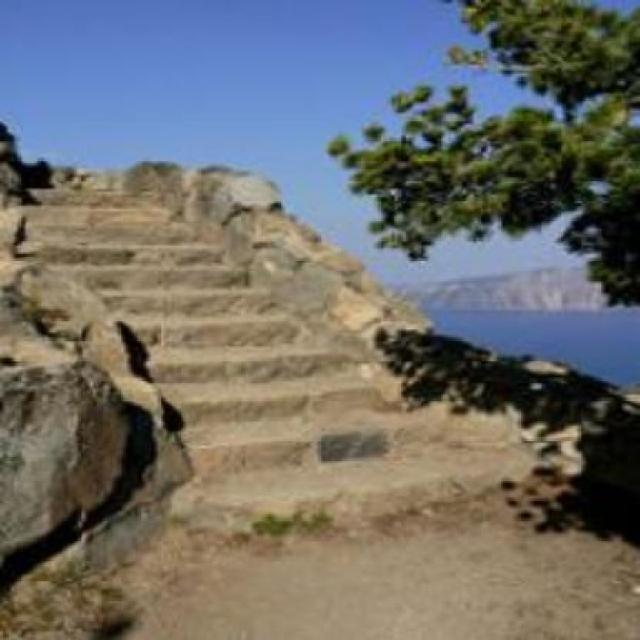stair: (8, 170, 546, 526)
